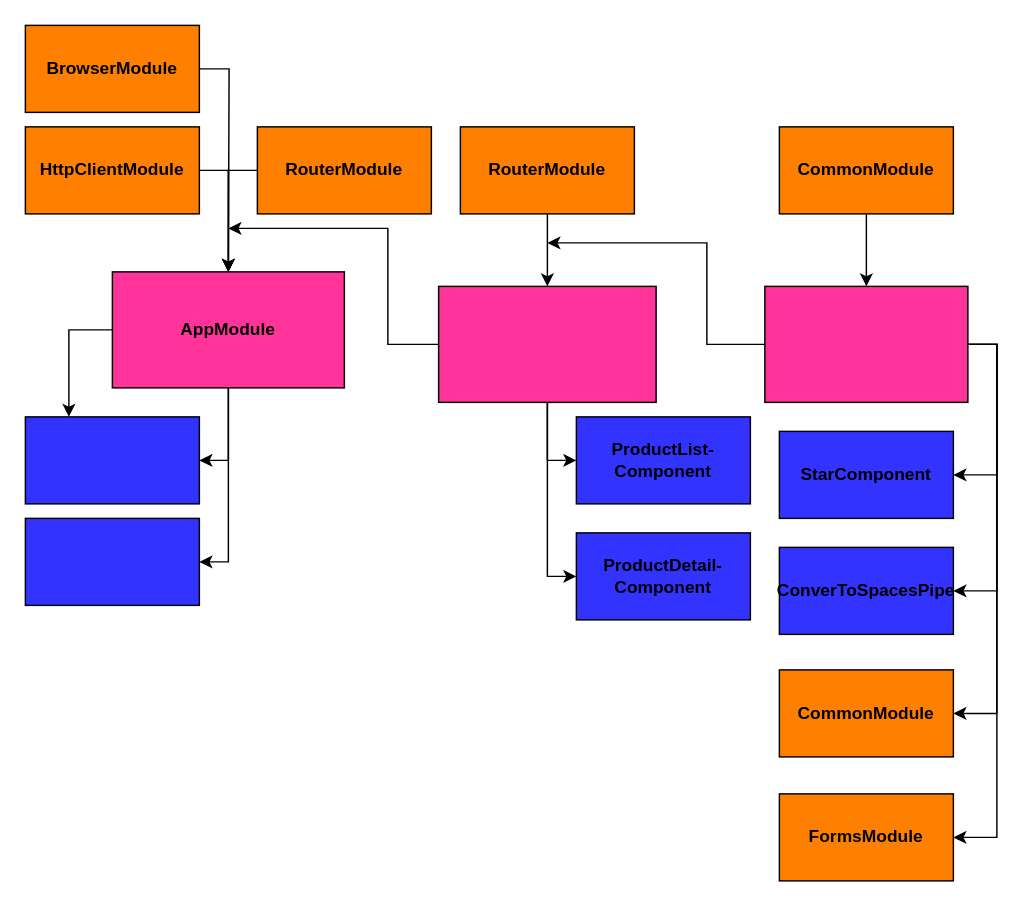
This 1034x906 diagram has some shape labels left out. Here are the shapes that lost their labels. From the top down, the box of each, then its label:
(437, 285, 656, 402): ProductModule
(763, 285, 968, 402): SharedModule
(24, 415, 199, 504): AppComponant
(24, 517, 199, 605): WelcomeComponent
